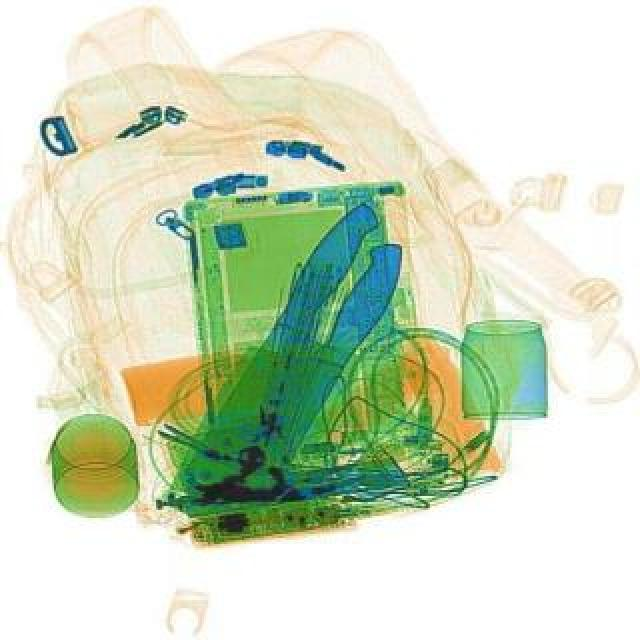knife: (184, 190, 440, 522), (168, 208, 418, 528)
